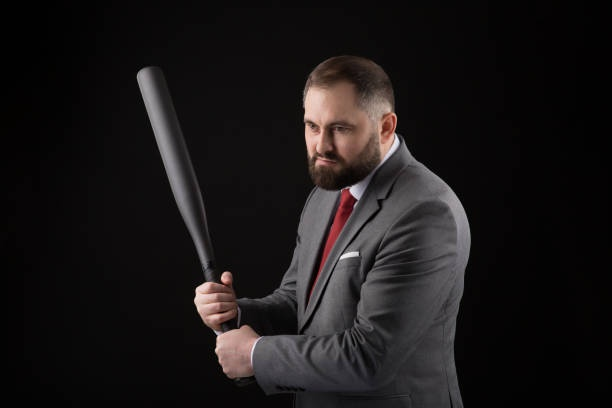bita: (133, 65, 242, 332)
